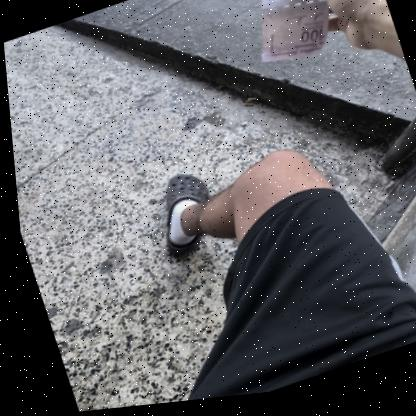one_hundred-front-vef: (230, 0, 375, 79)
